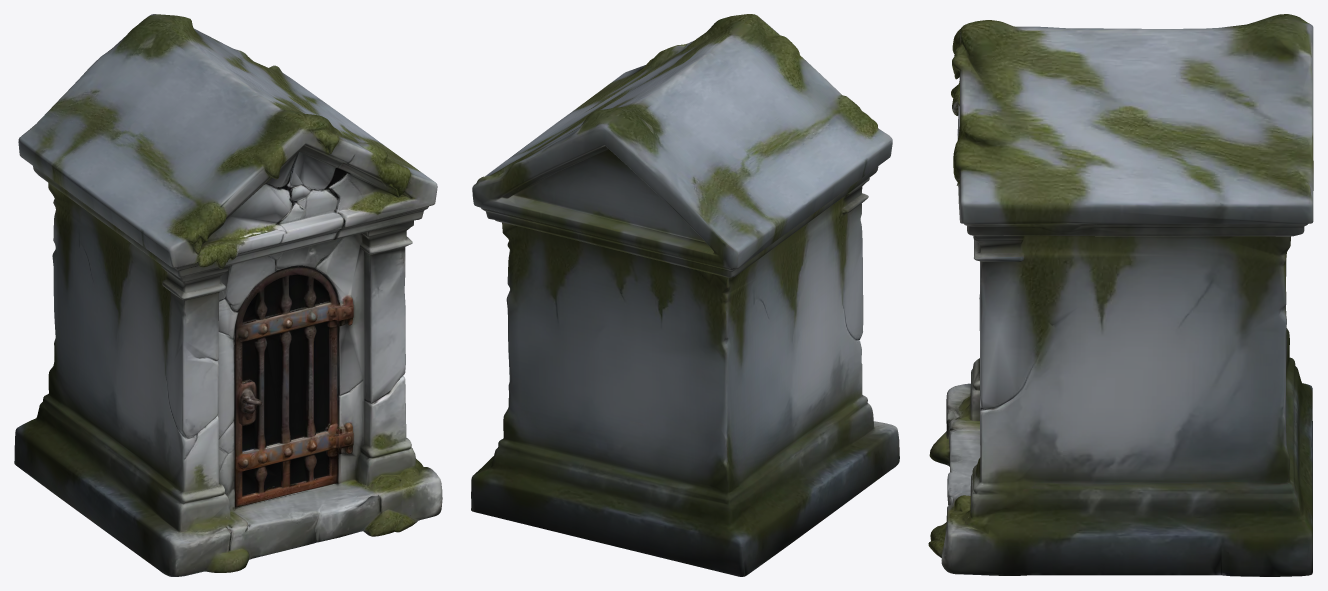
Rendered from Mausoleum1.opt.glb.
3 views of the same model, side by side, from view 1: azimuth 30°, elevation 25°; view 2: azimuth 150°, elevation 25°; view 3: azimuth 270°, elevation 25° (orthographic). The views are drawn at different scales.
Visible parts, largest first — view 1: node_0; view 2: node_0; view 3: node_0.
Part boxes in pixels (left/top/right/bottom): node_0: left=14, top=14, right=442, bottom=576; node_0: left=471, top=14, right=899, bottom=576; node_0: left=928, top=14, right=1313, bottom=576.
Size of the model in its own units: 0.5913 by 0.8537 by 0.6197.
1 material, 1 textured.
